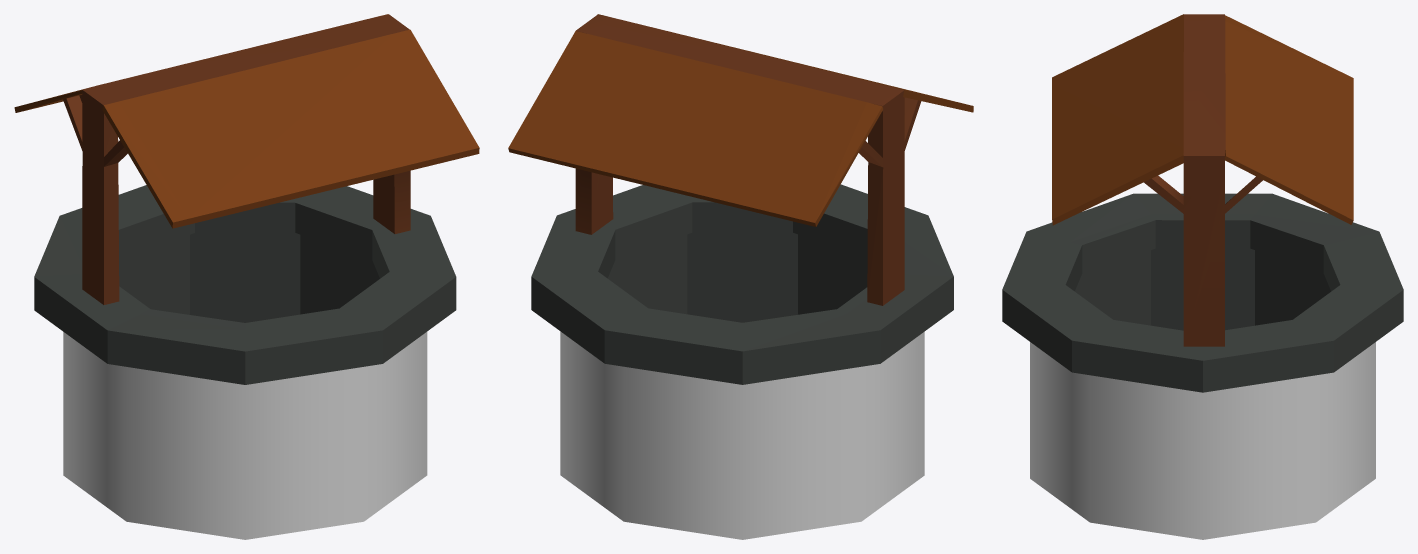
The model's file is pozoSeparado.fbx.
3 views of the same model, side by side, from view 1: azimuth 30°, elevation 25°; view 2: azimuth 150°, elevation 25°; view 3: azimuth 270°, elevation 25° (orthographic). The views are drawn at different scales.
Visible parts, largest first — view 1: Pozo, ParedFuera; view 2: Pozo, ParedFuera; view 3: Pozo, ParedFuera.
Boxes of the visible parts, <box> form: Pozo: <box>14,14,479,384</box>; ParedFuera: <box>63,332,427,539</box>; Pozo: <box>508,14,973,384</box>; ParedFuera: <box>560,331,924,539</box>; Pozo: <box>1002,14,1403,392</box>; ParedFuera: <box>1030,342,1375,539</box>.
Size of the model in its own units: 4.5 by 4.8 by 4.57.
